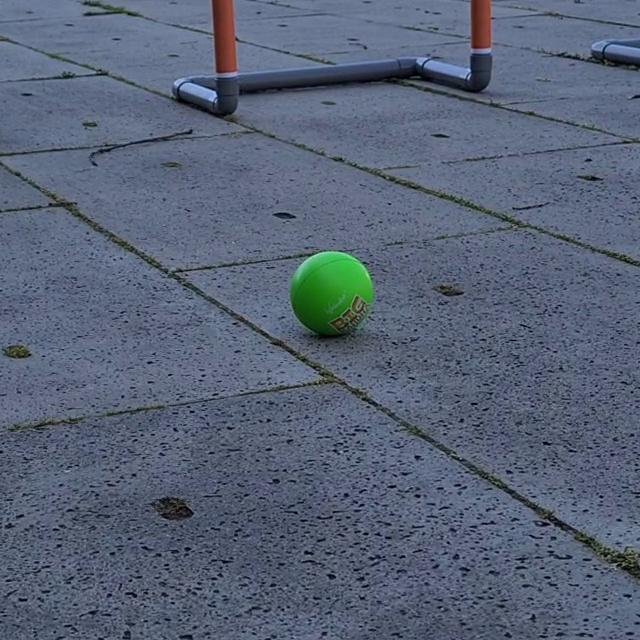ball: (288, 248, 380, 340)
